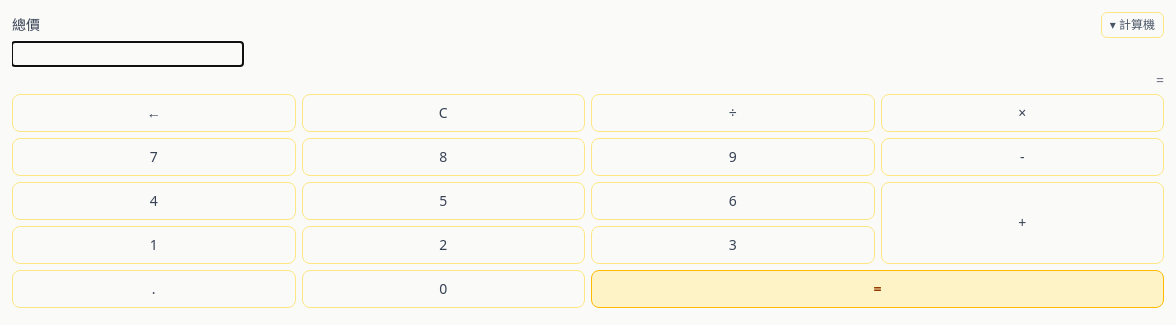
Test: preserves desktop Enter-to-equals and replaces only the first new digit
Press the mouse on the button "8" at x=443, y=157, box [302, 138, 585, 176]
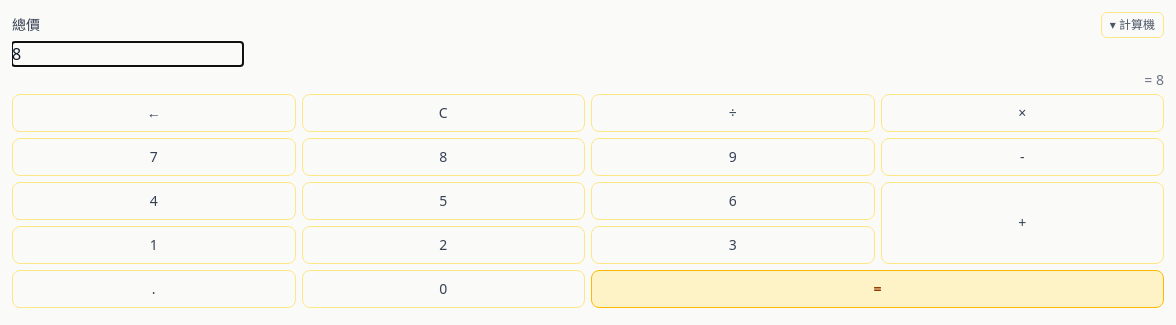
Press the mouse on the button "0" at x=443, y=289, box [302, 270, 585, 308]
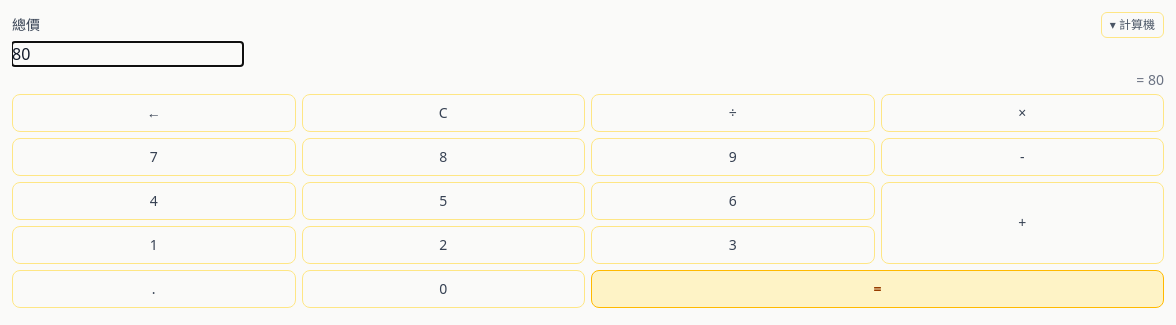
Press Enter in the field, box [12, 42, 243, 66]
Check: the field holds "80"
Press 4 in the field, box [12, 42, 243, 66]
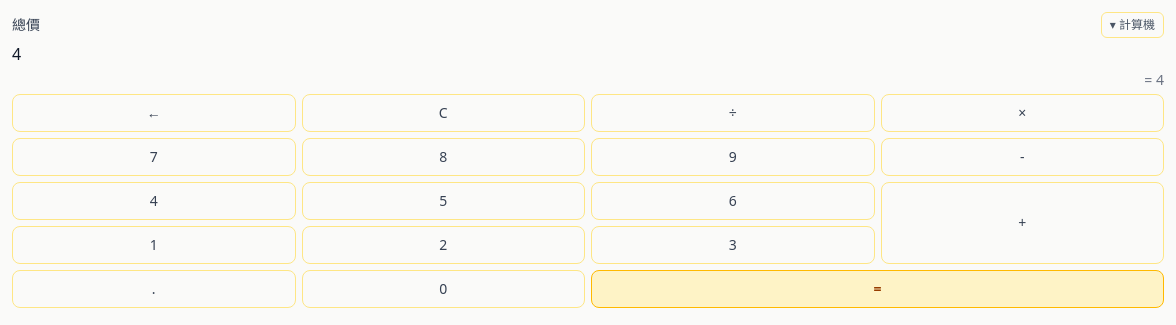
Check: the field holds "4", box [12, 42, 243, 66]
Press the mouse on the button "2" at x=443, y=245, box [302, 226, 585, 264]
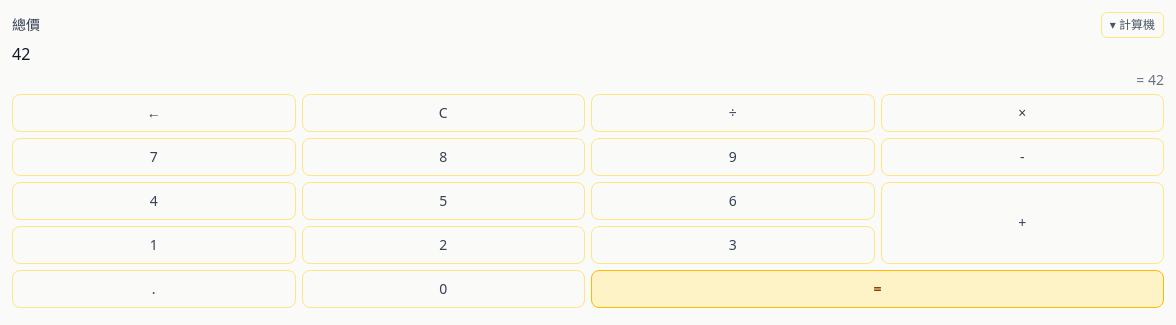
Check: the field holds "42", box [12, 42, 243, 66]
